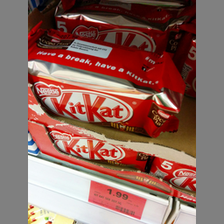chocolate: (28, 22, 185, 138), (46, 127, 151, 170)
